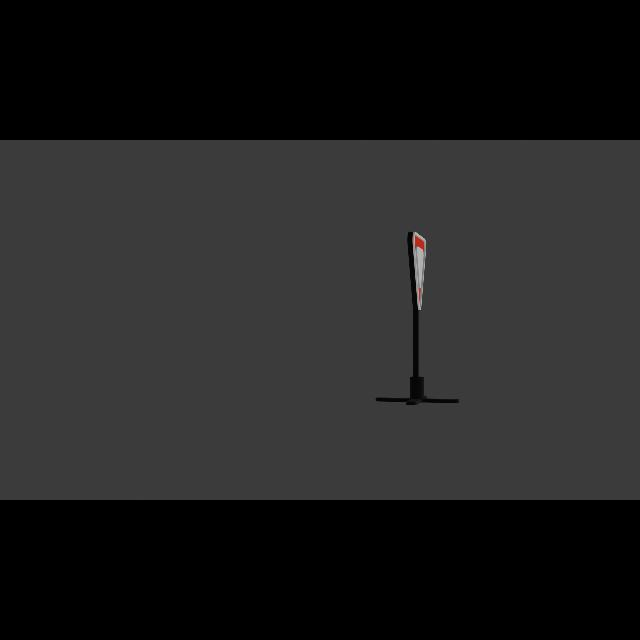sign_yield: (407, 232, 430, 312)
